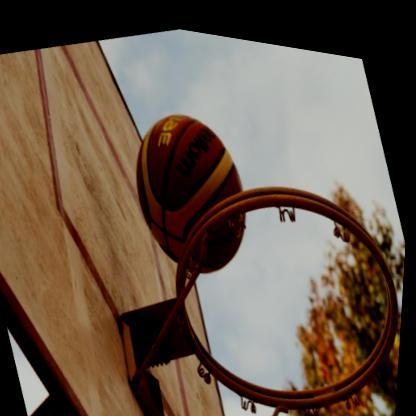basketball: (114, 86, 271, 287)
